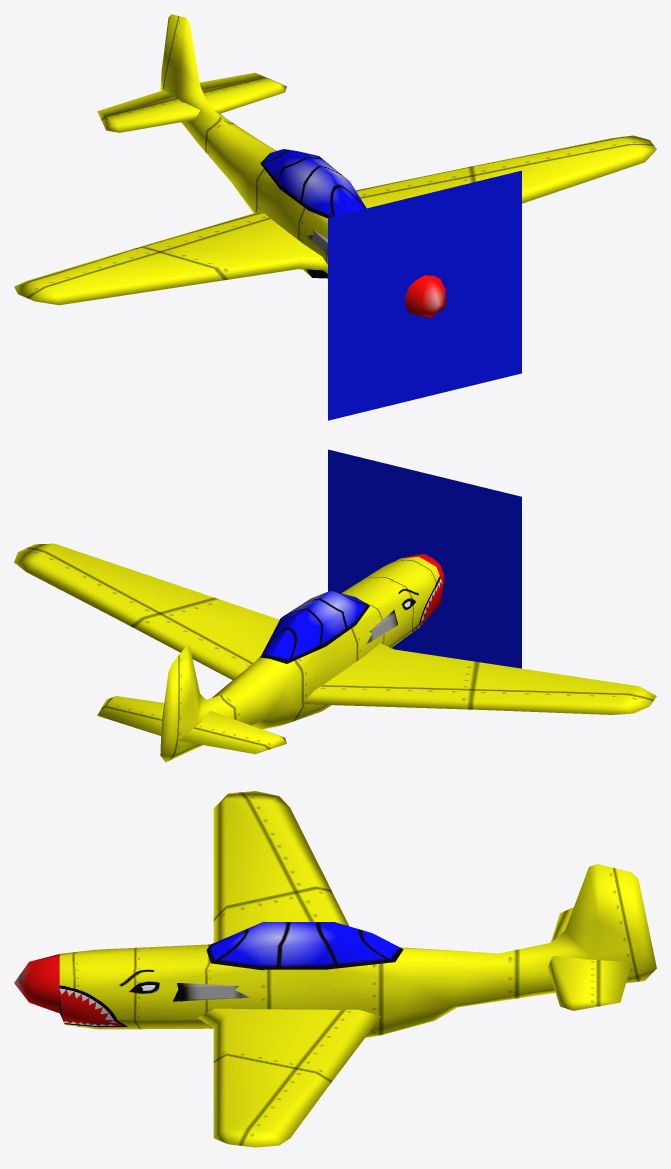
The picture shows the model from 3 angles, top to bottom: view 1: azimuth 30°, elevation 25°; view 2: azimuth 150°, elevation 25°; view 3: azimuth 270°, elevation 25°; orthographic projection. The views are drawn at different scales.
Parts seen in each view (by area): view 1: Mesh-P51-Prop, P51Wing, P51Body, P51RearWing; view 2: P51Wing, Mesh-P51-Prop, P51Body, P51RearWing; view 3: P51Body, P51Wing, P51RearWing.
Part boxes in pixels (x1=…): Mesh-P51-Prop: x1=328, y1=170, x2=521, y2=420; P51Wing: x1=14, y1=135, x2=656, y2=305; P51Body: x1=160, y1=14, x2=445, y2=317; P51RearWing: x1=97, y1=72, x2=286, y2=132; P51Wing: x1=14, y1=543, x2=656, y2=714; Mesh-P51-Prop: x1=328, y1=449, x2=521, y2=668; P51Body: x1=160, y1=554, x2=444, y2=762; P51RearWing: x1=97, y1=696, x2=286, y2=754; P51Body: x1=14, y1=864, x2=656, y2=1037; P51Wing: x1=198, y1=791, x2=380, y2=1147; P51RearWing: x1=547, y1=907, x2=631, y2=1010.
Size of what is drawn, in the model's own units: 14.29 by 4.42 by 10.89.
